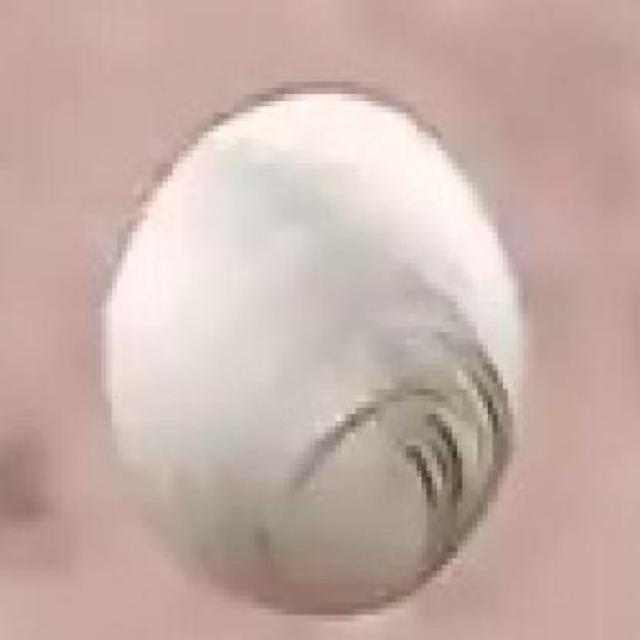Cricket ball: (91, 76, 538, 626)
